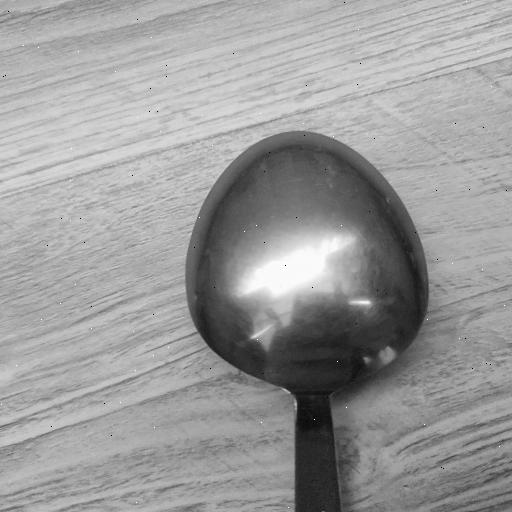spoon: (185, 127, 430, 512)
